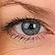eye: (22, 22, 39, 34)
